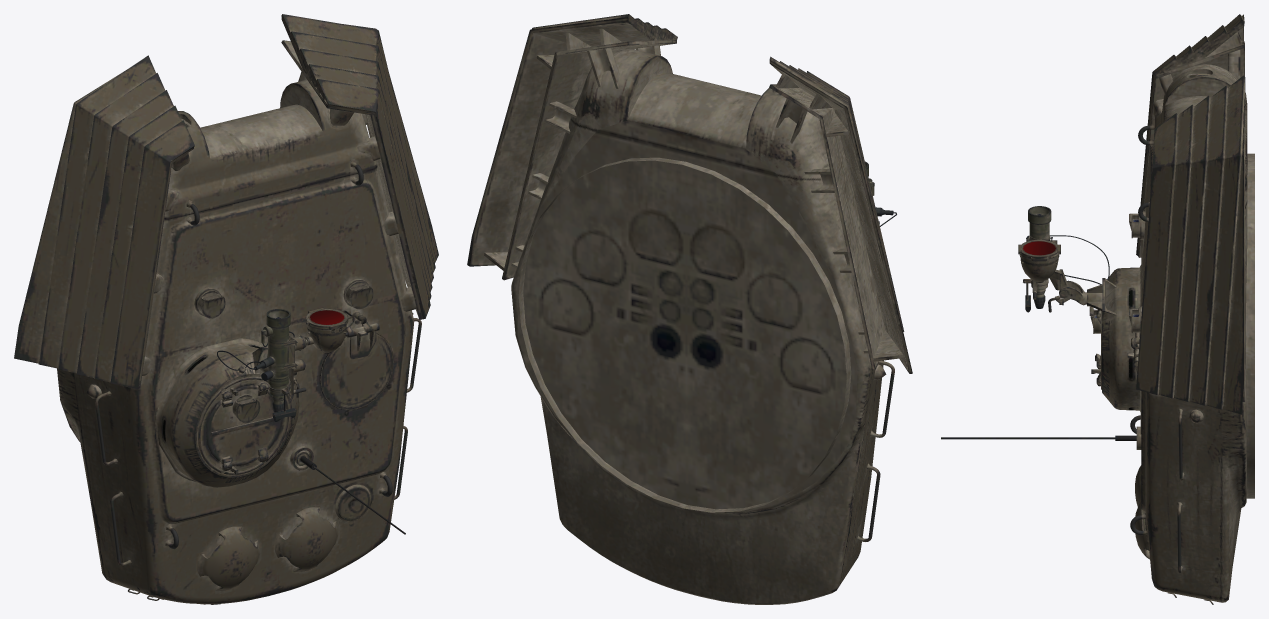
File: Turret_02.glb
3 renders of one model, left to right at view 1: azimuth 30°, elevation 25°; view 2: azimuth 150°, elevation 25°; view 3: azimuth 270°, elevation 25°, orthographic. The views are drawn at different scales.
Visible parts, largest first — view 1: set_0_group_0; view 2: set_0_group_0; view 3: set_0_group_0.
Boxes of the visible parts, bbox=[...] form: set_0_group_0: bbox=[14, 14, 438, 604]; set_0_group_0: bbox=[467, 14, 912, 604]; set_0_group_0: bbox=[941, 14, 1254, 604].
Bounding box in the file's own units: 2.99 × 3.69 × 1.99.
1 material, 1 textured.
